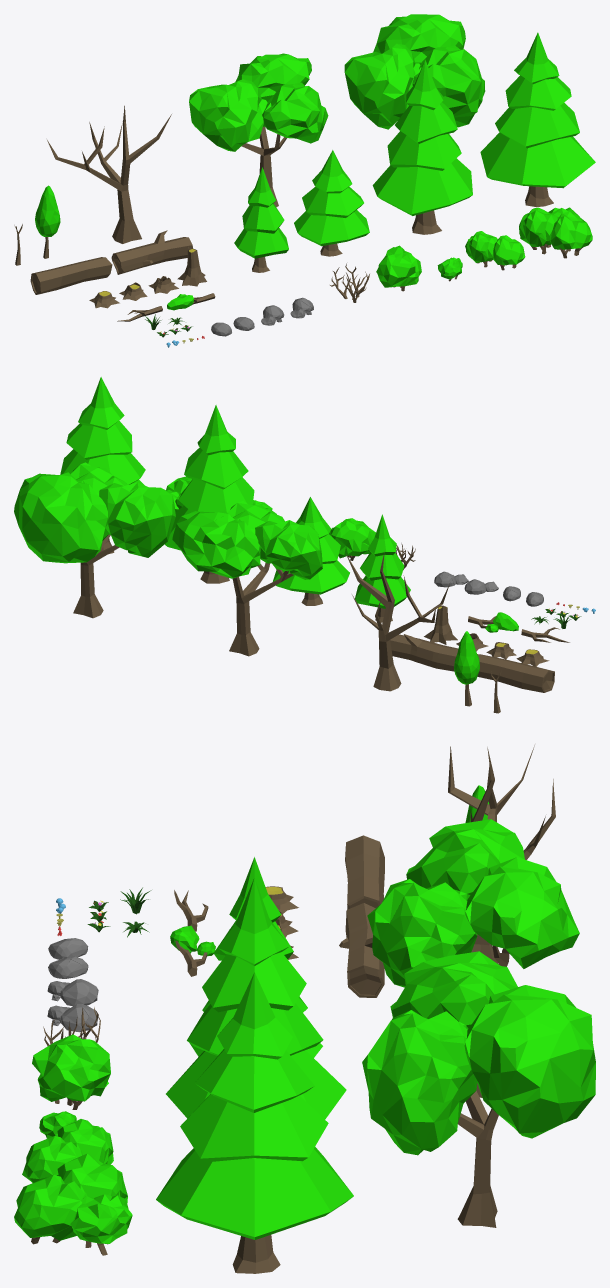
The model's file is forest_nature_set_all_in.fbx.
3 renders of one model, top to bottom at view 1: azimuth 30°, elevation 25°; view 2: azimuth 150°, elevation 25°; view 3: azimuth 270°, elevation 25°, orthographic. The views are drawn at different scales.
Parts seen in each view (by area): view 1: Tree_Spruce_small_02.001, Tree_average_lush.002, Tree_average_regular.002, Tree_Spruce_small_01.001, Tree_average_lush.003, Tree_average_regular.003, Tree_average_lush.001, Tree_average_bare, Tree_Spruce_small_02.002, Tree_average_regular.001, Tree_Spruce_small_01.002, Tree_Spruce_tiny_02.001 (+21 smaller); view 2: Tree_average_lush.001, Tree_average_regular.001, Tree_average_lush.002, Tree_average_regular.002, Tree_average_bare, Tree_Spruce_small_02.003, Tree_Spruce_small_01.002, Log_big_regular, Tree_average_regular, Tree_Spruce_small_01.003, Log_big_knotty, Tree_Spruce_small_02.002 (+14 smaller); view 3: Tree_average_lush.001, Tree_average_lush.003, Tree_Spruce_small_02.001, Tree_average_regular.001, Tree_average_regular.003, Tree_Spruce_small_02.002, Tree_average_lush.002, Tree_average_regular.002, Tree_Spruce_small_02.003, Bush_average.004, Tree_Spruce_small_01.003, Tree_Spruce_small_02.004 (+17 smaller).
Boxes of the visible parts, x1,y1,x2,y2 form: Tree_Spruce_small_02.001: (480,132,595,188); Tree_average_lush.002: (344,43,420,129); Tree_average_regular.002: (189,79,267,151); Tree_Spruce_small_01.001: (372,158,472,215); Tree_average_lush.003: (412,45,485,127); Tree_average_regular.003: (262,82,328,143); Tree_average_lush.001: (373,14,465,63); Tree_average_bare: (47,105,171,243); Tree_Spruce_small_02.002: (495,102,579,148); Tree_average_regular.001: (235,53,311,101); Tree_Spruce_small_01.002: (387,131,461,170); Tree_Spruce_tiny_02.001: (294,210,369,246); Tree_average_lush.001: (14,472,109,563); Tree_average_regular.001: (172,510,260,578); Tree_average_lush.002: (99,482,175,557); Tree_average_regular.002: (255,520,322,579); Tree_average_bare: (346,552,449,691); Tree_Spruce_small_02.003: (66,420,132,459); Tree_Spruce_small_01.002: (178,477,254,512); Log_big_regular: (477,654,554,692); Tree_average_regular: (229,563,293,656); Tree_Spruce_small_01.003: (184,447,248,489); Log_big_knotty: (390,634,458,671); Tree_Spruce_small_02.002: (60,449,145,484); Tree_average_lush.001: (464,985,595,1138); Tree_average_lush.003: (362,1010,477,1155); Tree_Spruce_small_02.001: (156,1147,353,1239); Tree_average_regular.001: (465,857,579,968); Tree_average_regular.003: (367,879,477,987); Tree_Spruce_small_02.002: (180,1094,328,1162); Tree_average_lush.002: (390,951,517,1029); Tree_average_regular.002: (406,819,524,900); Tree_Spruce_small_02.003: (195,1049,314,1112); Bush_average.004: (32,1034,110,1101); Tree_Spruce_small_01.003: (202,952,306,1012); Tree_Spruce_small_02.004: (217,972,292,1059).
Size of the model in its own units: 5841 by 1832 by 3295.
